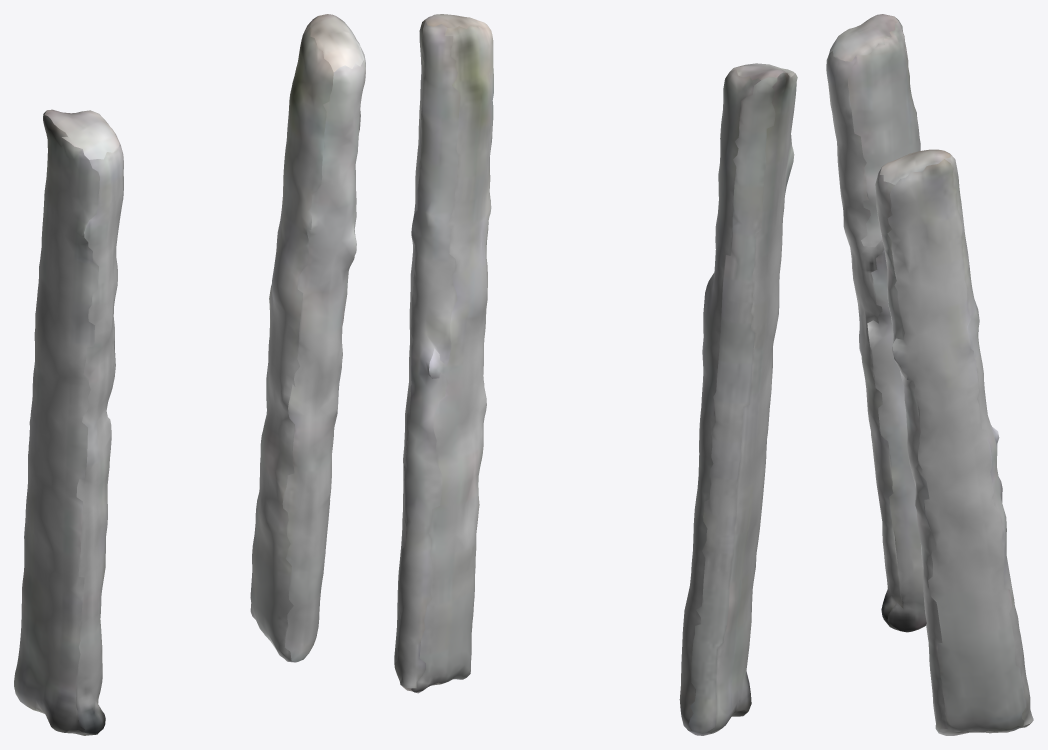
The model's file is 22_curtain.glb.
3 renders of one model, left to right at view 1: azimuth 30°, elevation 25°; view 2: azimuth 150°, elevation 25°; view 3: azimuth 270°, elevation 25°, orthographic. The views are drawn at different scales.
Visible parts, largest first — view 1: 22_curtain; view 2: 22_curtain; view 3: 22_curtain.
Boxes of the visible parts, x1=… form: 22_curtain: x1=14, y1=14, x2=365, y2=735; 22_curtain: x1=394, y1=14, x2=797, y2=735; 22_curtain: x1=826, y1=14, x2=1033, y2=735.
Size of the model in its own units: 1.17 by 2.17 by 0.6851.
Materials: 1 (1 with a texture image).
